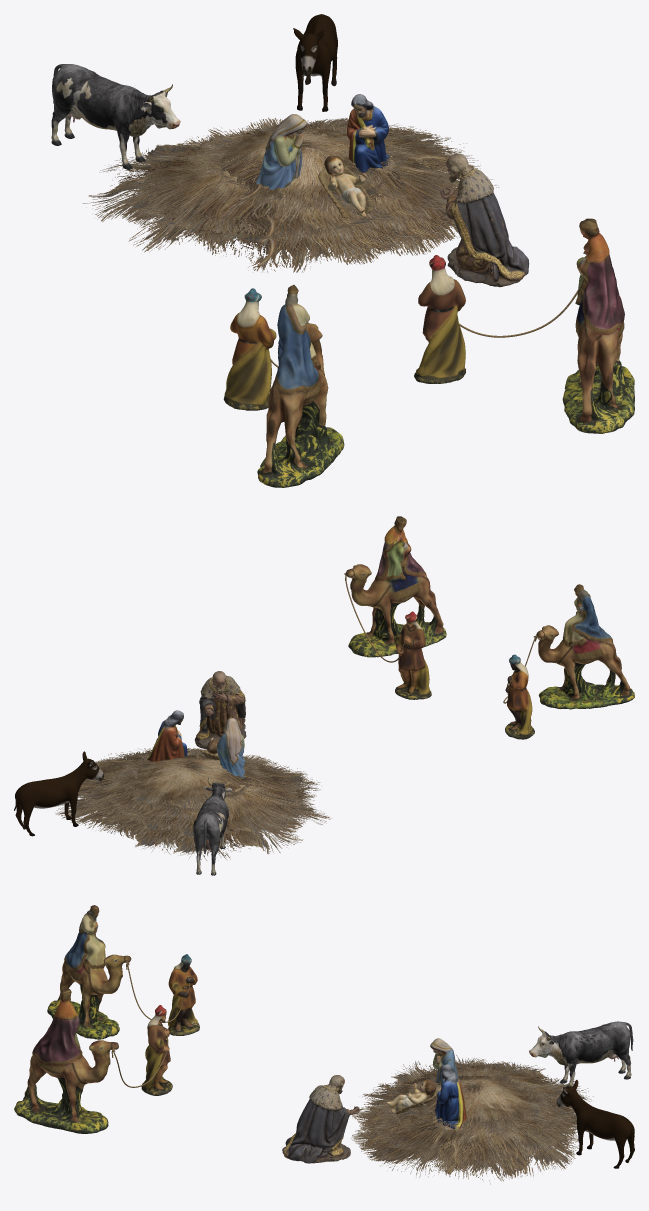
Rendered from nativita.glb.
3 renders of one model, top to bottom at view 1: azimuth 30°, elevation 25°; view 2: azimuth 150°, elevation 25°; view 3: azimuth 270°, elevation 25°, orthographic. The views are drawn at different scales.
Visible parts, largest first — view 1: Reis_Conj_3, Reisj_Conj_1, StrawLayer.005_5, StrawLayer.004_4, StrawLayer.007_7, Object_2, Line01, StrawLayer.001_1, Donkey_2, StrawLayer_0, SJose_LP2, SMaria_LP2 (+8 smaller); view 2: Reis_Conj_3, Reisj_Conj_1, StrawLayer.007_7, StrawLayer.005_5, StrawLayer.004_4, Donkey_2, Object_2, StrawLayer.001_1, StrawLayer_0, Line01, StrawLayer.002_2, SJose_LP2 (+4 smaller); view 3: Reis_Conj_3, Reisj_Conj_1, StrawLayer.001_1, StrawLayer_0, StrawLayer.007_7, Object_2, Line01, StrawLayer.002_2, StrawLayer.005_5, Donkey_2, StrawLayer.004_4, SJose_LP2 (+5 smaller).
Part boxes in pixels (x1,y1,x2,y2): Reis_Conj_3: [414, 218, 634, 433]; Reisj_Conj_1: [223, 285, 344, 487]; StrawLayer.005_5: [115, 136, 398, 248]; StrawLayer.004_4: [82, 131, 424, 272]; StrawLayer.007_7: [198, 121, 397, 210]; Object_2: [440, 153, 529, 287]; Line01: [51, 64, 180, 169]; StrawLayer.001_1: [212, 118, 459, 237]; Donkey_2: [293, 14, 337, 111]; StrawLayer_0: [140, 117, 499, 264]; SJose_LP2: [347, 94, 391, 173]; SMaria_LP2: [256, 114, 307, 189]; Reis_Conj_3: [344, 516, 446, 699]; Reisj_Conj_1: [503, 584, 634, 739]; StrawLayer.007_7: [117, 753, 268, 810]; StrawLayer.005_5: [113, 757, 310, 842]; StrawLayer.004_4: [95, 755, 332, 860]; Donkey_2: [14, 751, 103, 836]; Object_2: [194, 671, 246, 749]; StrawLayer.001_1: [77, 748, 202, 835]; StrawLayer_0: [55, 748, 263, 854]; Line01: [193, 777, 232, 875]; StrawLayer.002_2: [82, 752, 196, 822]; SJose_LP2: [147, 710, 187, 761]; Reis_Conj_3: [14, 988, 172, 1133]; Reisj_Conj_1: [47, 905, 199, 1039]; StrawLayer.001_1: [372, 1107, 571, 1164]; StrawLayer_0: [351, 1106, 578, 1184]; StrawLayer.007_7: [405, 1072, 546, 1133]; Object_2: [282, 1075, 359, 1163]; Line01: [529, 1021, 633, 1087]; StrawLayer.002_2: [390, 1089, 556, 1171]; StrawLayer.005_5: [372, 1061, 568, 1132]; Donkey_2: [556, 1080, 634, 1168]; StrawLayer.004_4: [352, 1060, 593, 1155]; SJose_LP2: [435, 1064, 466, 1130].
Size of the model in its own units: 5.67 by 2 by 8.09.
16 materials, 15 textured.
